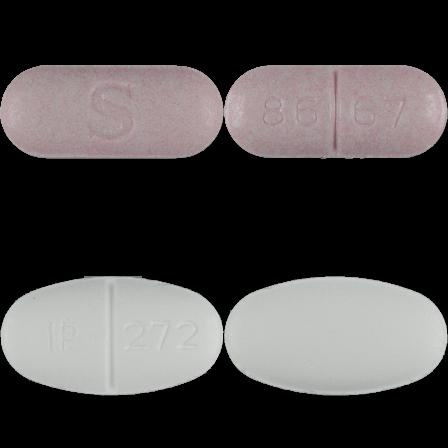10544-524: (0, 0, 224, 224)
